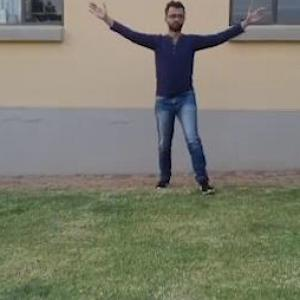takeoff: (94, 0, 283, 199)
